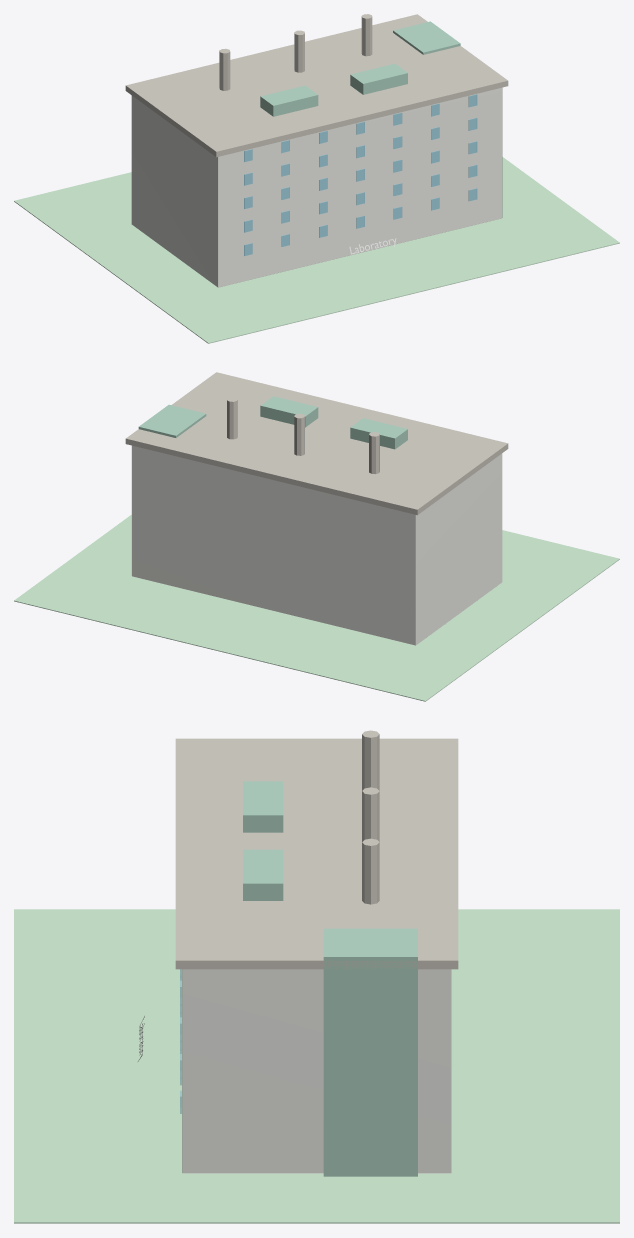
The model's file is laboratory.glb.
3 views of the same model, one above another, from view 1: azimuth 30°, elevation 25°; view 2: azimuth 150°, elevation 25°; view 3: azimuth 270°, elevation 25° (orthographic). The views are drawn at different scales.
Parts seen in each view (by area): view 1: laboratory_body, laboratory.001_base_tile, laboratory_roof, laboratory_side_shaft, laboratory_vent_box_-6, laboratory_vent_box_6, laboratory_exhaust_chimney_2, laboratory_exhaust_chimney_0, laboratory_exhaust_chimney_1; view 2: laboratory_body, laboratory.001_base_tile, laboratory_roof, laboratory_side_shaft, laboratory_vent_box_6, laboratory_vent_box_-6, laboratory_exhaust_chimney_2, laboratory_exhaust_chimney_1, laboratory_exhaust_chimney_0; view 3: laboratory.001_base_tile, laboratory_roof, laboratory_body, laboratory_side_shaft, laboratory_vent_box_-6, laboratory_vent_box_6, laboratory_exhaust_chimney_2, laboratory_exhaust_chimney_0, laboratory_exhaust_chimney_1.
Part boxes in pixels (x1,y1,x2,y2): laboratory_body: [131, 87, 502, 287]; laboratory.001_base_tile: [14, 157, 619, 343]; laboratory_roof: [125, 14, 508, 157]; laboratory_side_shaft: [393, 21, 460, 54]; laboratory_vent_box_-6: [260, 85, 318, 116]; laboratory_vent_box_6: [350, 63, 407, 94]; laboratory_exhaust_chimney_2: [361, 14, 372, 56]; laboratory_exhaust_chimney_0: [219, 48, 230, 90]; laboratory_exhaust_chimney_1: [294, 30, 304, 72]; laboratory_body: [131, 445, 502, 645]; laboratory.001_base_tile: [14, 515, 619, 701]; laboratory_roof: [125, 372, 508, 515]; laboratory_side_shaft: [138, 404, 206, 437]; laboratory_vent_box_6: [260, 396, 318, 427]; laboratory_vent_box_-6: [350, 418, 407, 449]; laboratory_exhaust_chimney_2: [227, 397, 237, 439]; laboratory_exhaust_chimney_1: [294, 413, 304, 455]; laboratory_exhaust_chimney_0: [369, 432, 379, 473]; laboratory.001_base_tile: [14, 909, 619, 1223]; laboratory_roof: [175, 738, 458, 969]; laboratory_body: [182, 969, 451, 1173]; laboratory_side_shaft: [323, 928, 417, 1176]; laboratory_vent_box_-6: [243, 781, 283, 832]; laboratory_vent_box_6: [243, 849, 283, 900]; laboratory_exhaust_chimney_2: [362, 838, 379, 904]; laboratory_exhaust_chimney_0: [362, 730, 379, 790]; laboratory_exhaust_chimney_1: [362, 787, 379, 841].
Bounding box in the file's own units: 55 × 22.61 × 45.
